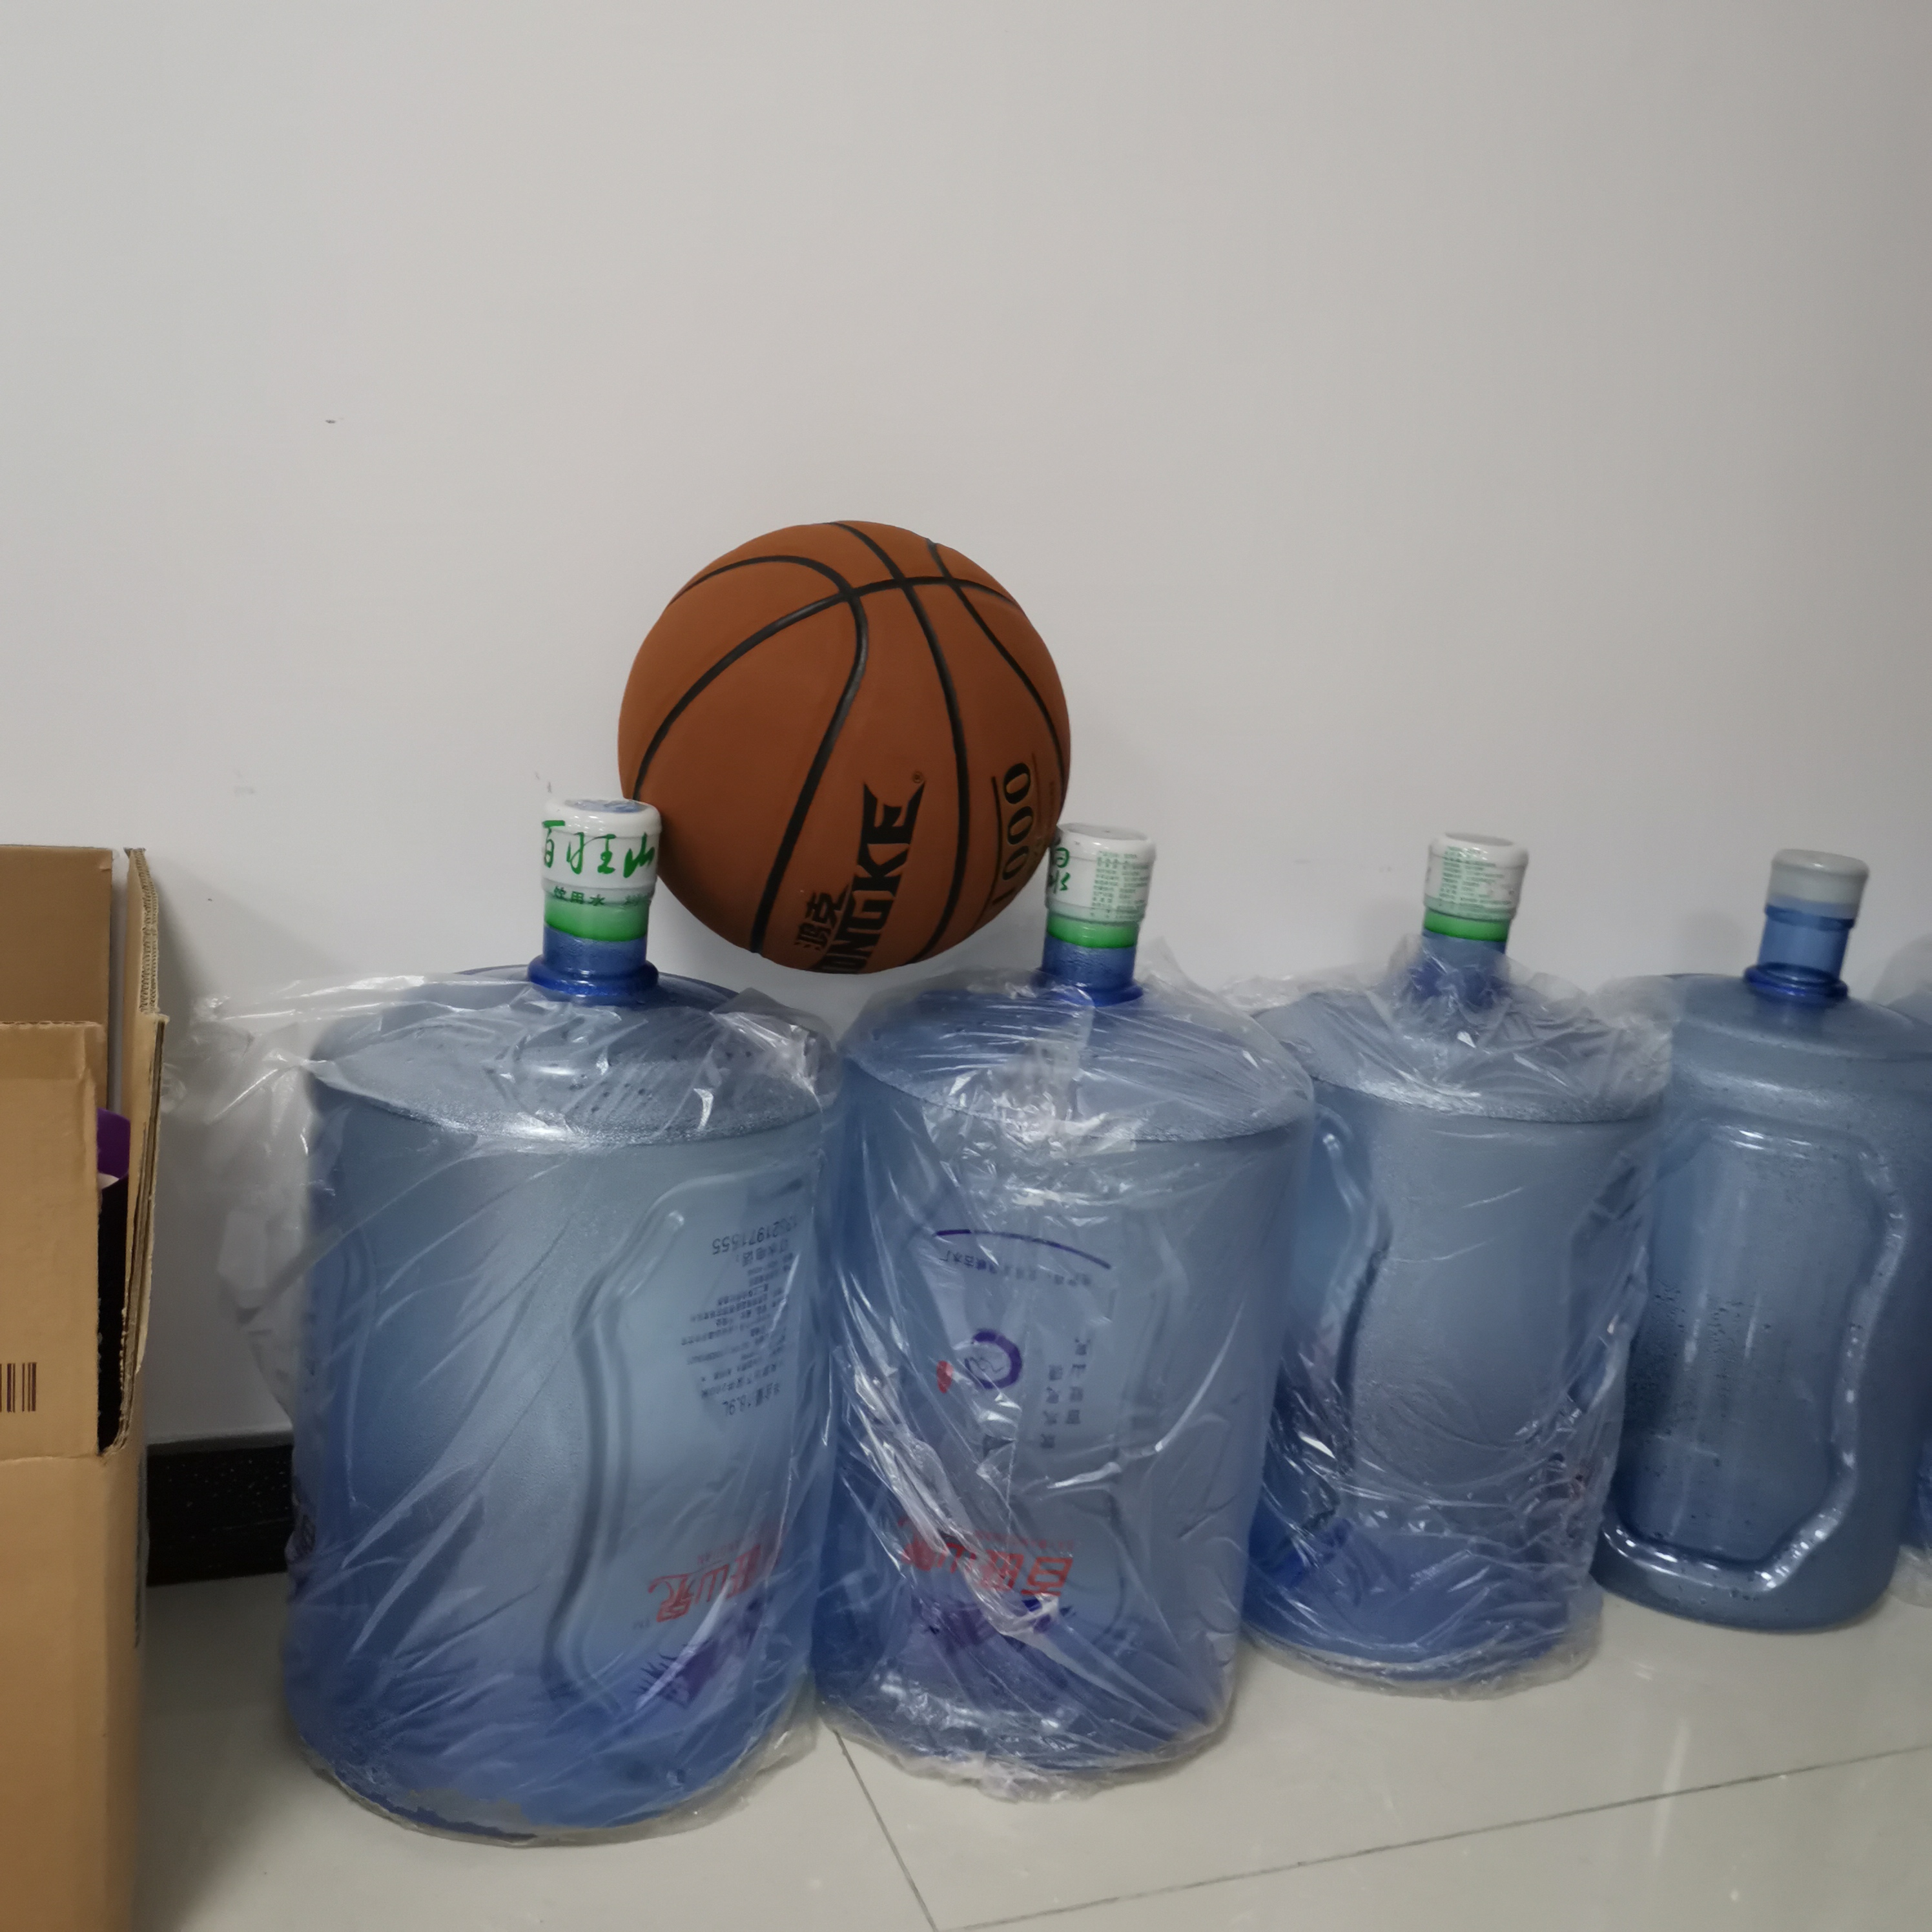basketball: (619, 520, 1072, 973)
